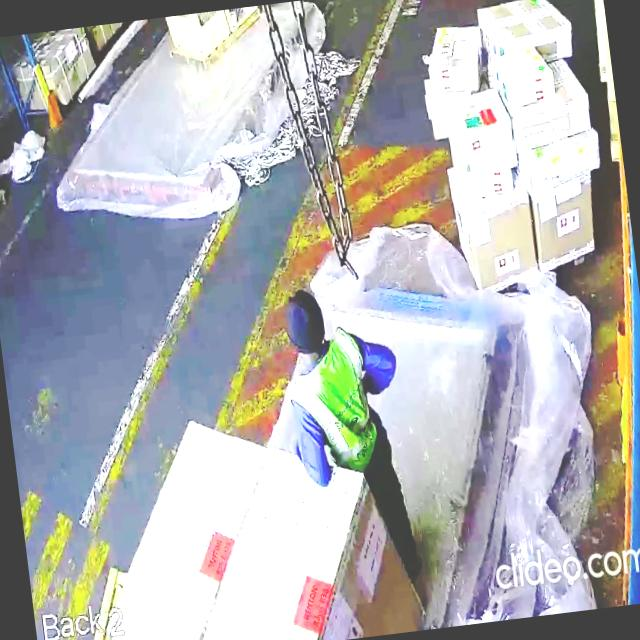Box: (88, 418, 259, 640), (237, 431, 388, 640), (450, 190, 540, 283), (528, 182, 598, 268), (478, 0, 571, 58), (450, 89, 516, 154), (422, 19, 479, 91), (522, 100, 596, 144), (526, 140, 602, 180), (497, 48, 548, 98)
